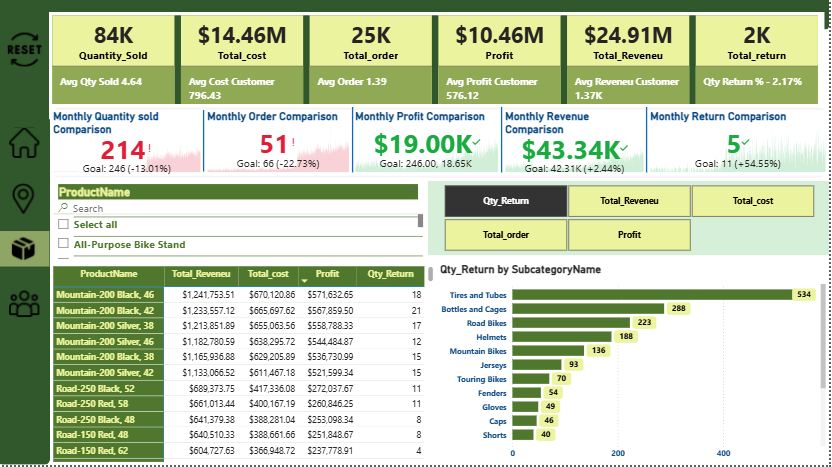

Layout of this report page (visuals, bound fields, positions):
{"tool":"powerbi","page":{"name":"Product_Page","canvas":[1280,720],"ordinal":2},"visuals":[{"type":"shape","box":[0,0,1280,50],"z":0},{"type":"shape","box":[0,25,81.7,695],"z":1000},{"type":"cardVisual","fields":{"Data":[".Measure_Table.Quantity_Sold",".Measure_Table.Total_cost",".Measure_Table.Total_order",".Measure_Table.Profit",".Measure_Table.Total_Reveneu",".Measure_Table.Total_return"]},"box":[80,23.3,1193.3,165],"z":2000},{"type":"group","id":"g1","title":"Group 1","box":[81.7,165,1198.3,118.3],"z":3000},{"type":"shape","box":[81.7,165,1198.3,118.3],"z":3000,"group":"g1"},{"type":"kpi","title":"Monthly Quantity sold Comparison","fields":{"Indicator":[".Measure_Table.Quantity_Sold"],"TrendLine":["Calendar Lookup.Date"],"Goal":[".Measure_Table.Previous_month_QTY_sold"]},"box":[81.7,174.9,236.7,100.6],"z":4000,"group":"g1"},{"type":"pivotTable","fields":{"Rows":["Product Lookup.ProductName"],"Values":[".Measure_Table.Total_Reveneu",".Measure_Table.Total_cost",".Measure_Table.Profit",".Measure_Table.Qty_Return"]},"box":[82.1,409,594.7,311],"z":4000},{"type":"kpi","title":"Monthly Order Comparison","fields":{"TrendLine":["Calendar Lookup.Date"],"Indicator":[".Measure_Table.Total_order"],"Goal":[".Measure_Table.Previous_month_order"]},"box":[318.4,174.9,228.3,100.6],"z":5000,"group":"g1"},{"type":"slicer","fields":{"Values":["Product Lookup.ProductName"]},"box":[82.1,283.7,578.9,125.3],"z":5000},{"type":"kpi","title":"Monthly Profit Comparison","fields":{"TrendLine":["Calendar Lookup.Date"],"Goal":[".Measure_Table.Previous_month_QTY_sold",".Measure_Table.Previous_month_profit"],"Indicator":[".Measure_Table.Profit"]},"box":[546.7,173.9,230,100.6],"z":6000,"group":"g1"},{"type":"slicer","fields":{"Values":["Parameter 2.Parameter"]},"box":[662.4,283.7,617.8,113.8],"z":6000},{"type":"kpi","title":"Monthly Return Comparison","fields":{"TrendLine":["Calendar Lookup.Date"],"Indicator":[".Measure_Table.Qty_Return"],"Goal":[".Measure_Table.Previous_month_QTY_return"]},"box":[1000,173.9,280,100.6],"z":7000,"group":"g1"},{"type":"barChart","fields":{"Y":[".Measure_Table.Qty_Return"],"Category":["Product Subcategories Lookup.SubcategoryName"]},"box":[677,409,603,311],"z":7000},{"type":"kpi","title":"Monthly Revenue Comparison","fields":{"TrendLine":["Calendar Lookup.Date"],"Goal":[".Measure_Table.Previous_month_reveneu"],"Indicator":[".Measure_Table.Total_Reveneu"]},"box":[776.7,173.9,223.3,100.6],"z":8000,"group":"g1"},{"type":"actionButton","box":[1.4,197.3,80.6,54.7],"z":8000},{"type":"shape","box":[306.7,174.9,23.3,94.7],"z":9000,"group":"g1"},{"type":"actionButton","box":[0,283.7,80.6,54.7],"z":9000},{"type":"shape","box":[535,169.9,23.3,100.6],"z":10000,"group":"g1"},{"type":"actionButton","box":[0,360,80.6,54.7],"z":10000},{"type":"shape","box":[765,168.9,23.3,100.6],"z":11000,"group":"g1"},{"type":"actionButton","box":[1.4,445,80.6,54.7],"z":11000},{"type":"actionButton","box":[13,50.4,67.7,60.5],"z":11001},{"type":"shape","box":[988.4,169.9,23.3,100.6],"z":12000,"group":"g1"}]}

Visuals, with their boxes in screenshot pixels (x1, y1, x2, y2), scaled from the page's 1280x720 canvas onto the 832x467 screenshot:
shape: region(0, 0, 831, 32)
shape: region(0, 16, 53, 466)
cardVisual - .Measure_Table.Quantity_Sold x .Measure_Table.Total_cost: region(52, 15, 828, 122)
"Group 1" group: region(53, 107, 831, 184)
shape: region(53, 107, 831, 184)
"Monthly Quantity sold Comparison" kpi: region(53, 113, 207, 179)
pivotTable - Product Lookup.ProductName x .Measure_Table.Total_Reveneu: region(53, 265, 440, 466)
"Monthly Order Comparison" kpi: region(207, 113, 355, 179)
slicer - Product Lookup.ProductName: region(53, 184, 430, 265)
"Monthly Profit Comparison" kpi: region(355, 113, 505, 178)
slicer - Parameter 2.Parameter: region(431, 184, 831, 258)
"Monthly Return Comparison" kpi: region(650, 113, 831, 178)
barChart - .Measure_Table.Qty_Return x Product Subcategories Lookup.SubcategoryName: region(440, 265, 831, 466)
"Monthly Revenue Comparison" kpi: region(505, 113, 650, 178)
actionButton: region(1, 128, 53, 163)
shape: region(199, 113, 214, 175)
actionButton: region(0, 184, 52, 219)
shape: region(348, 110, 363, 175)
actionButton: region(0, 234, 52, 269)
shape: region(497, 110, 512, 175)
actionButton: region(1, 289, 53, 324)
actionButton: region(8, 33, 52, 72)
shape: region(642, 110, 658, 175)
